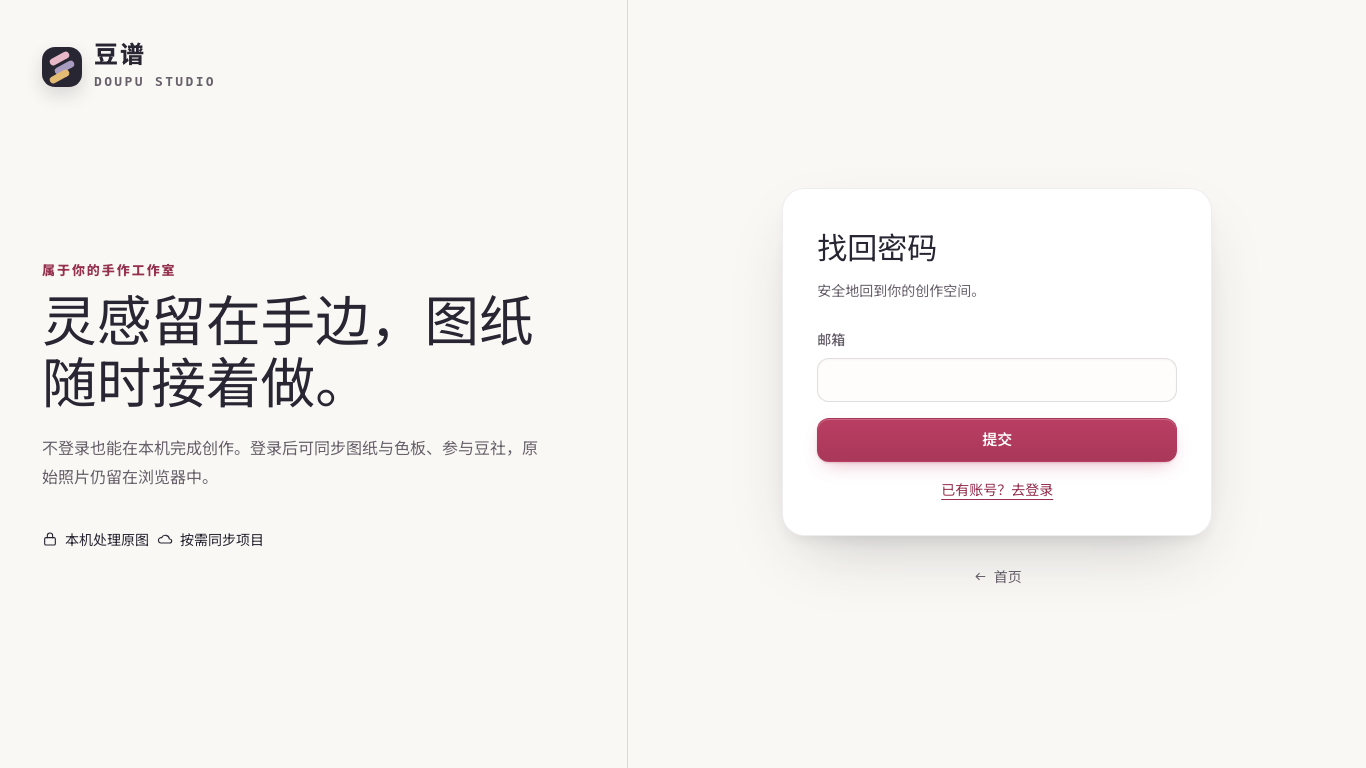
Test case: forgot-password 页 › 非法邮箱本地拦截
Type "bad" into the field labelled "邮箱" at {"x": 997, "y": 380}, box top-left (817, 358), bottom-right (1177, 402)
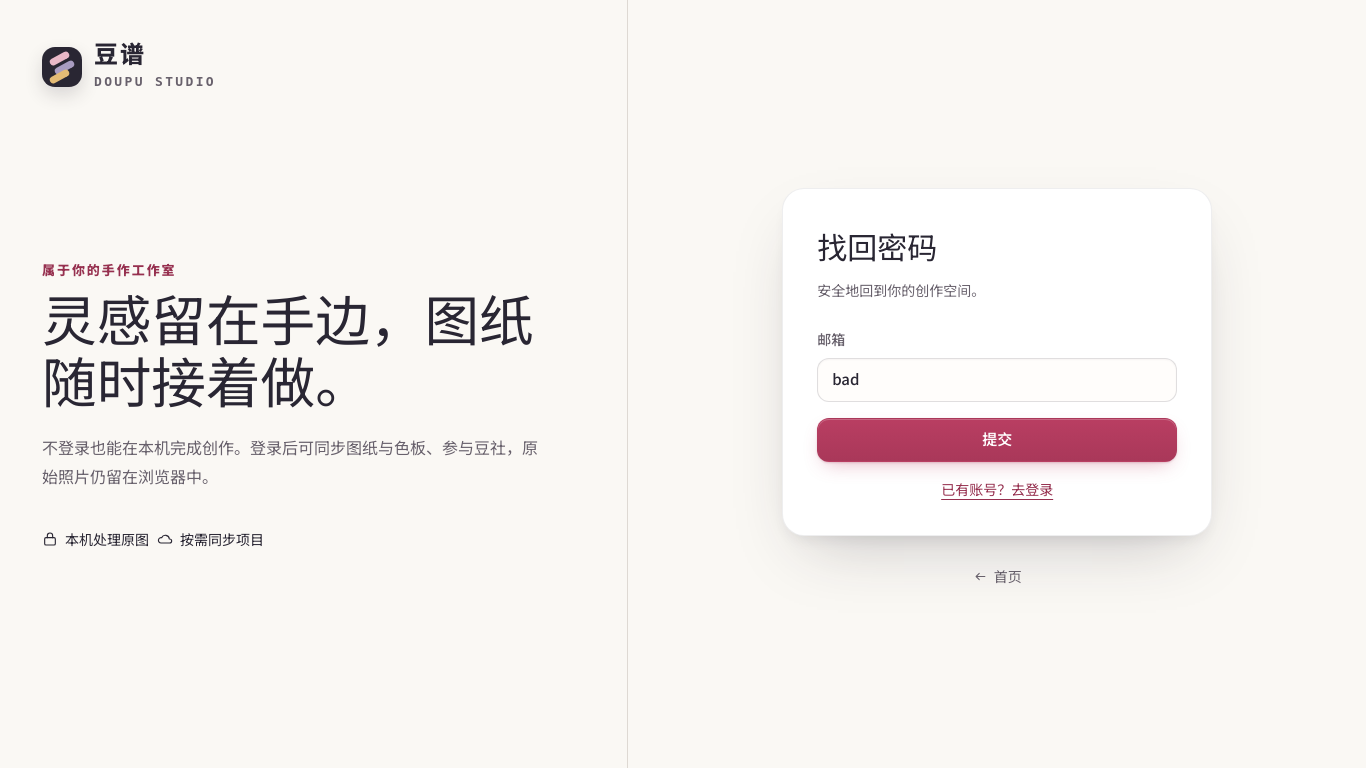
Click the button "提交" at {"x": 997, "y": 440}, box top-left (817, 418), bottom-right (1177, 462)
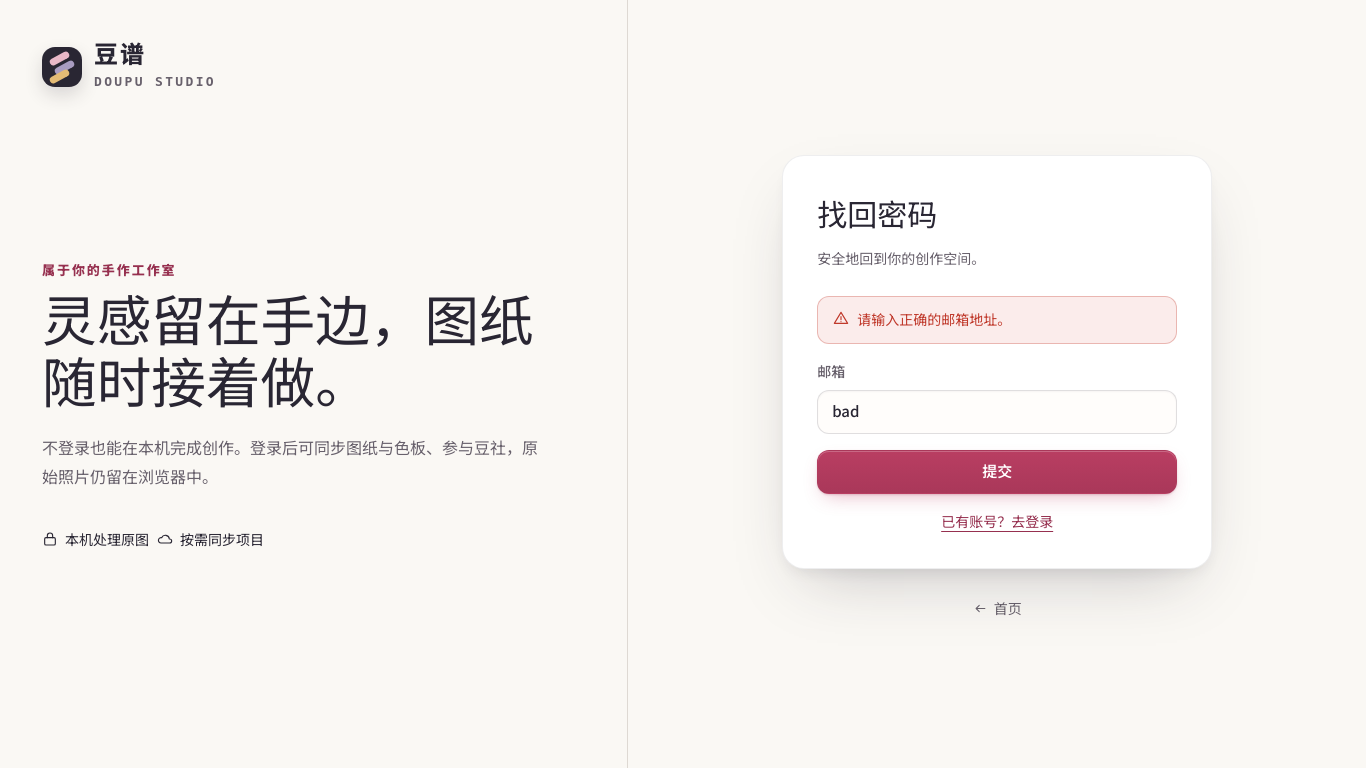
Check: the message "请输入正确的邮箱地址。" is shown, box top-left (817, 296), bottom-right (1177, 344)
